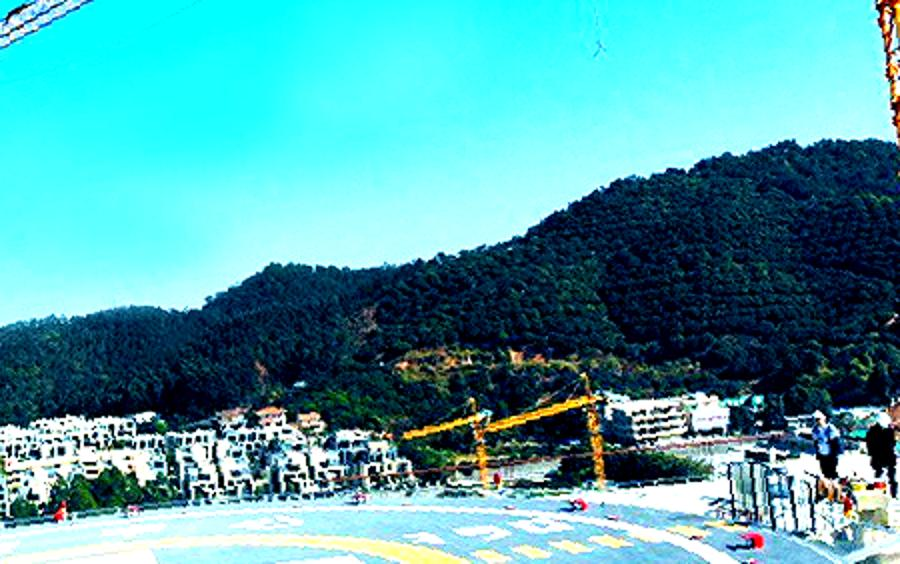Apron: (3, 539, 466, 564)
